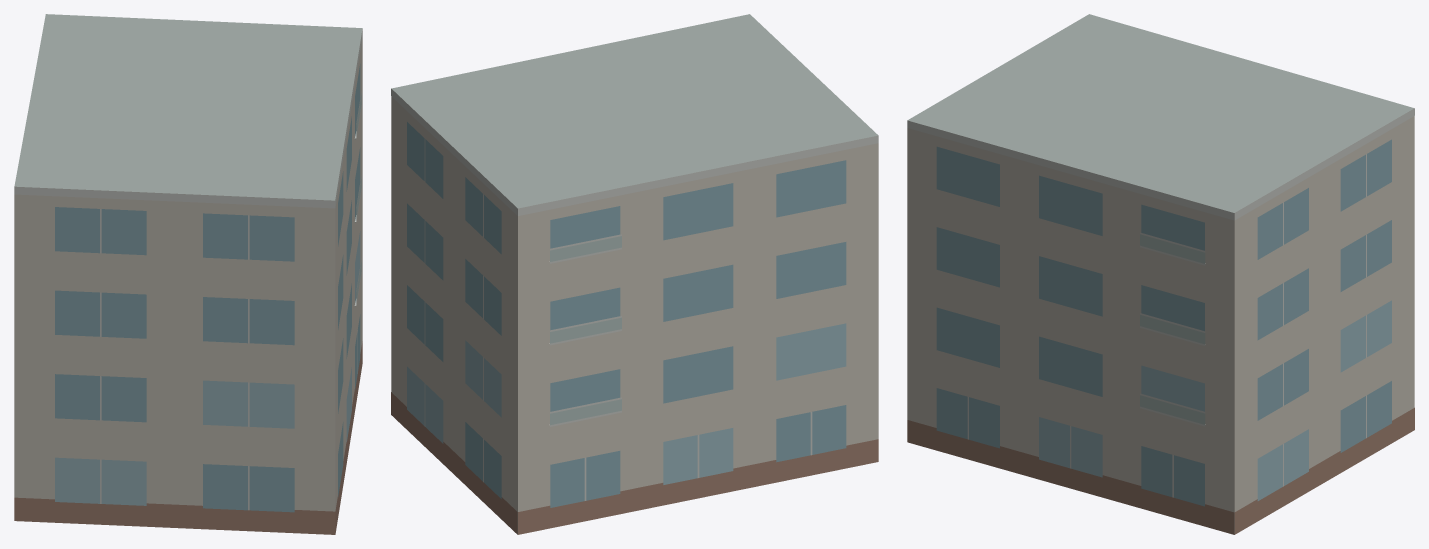
The model's file is survey-upis-32883993.glb.
The picture shows the model from 3 angles, left to right: view 1: azimuth 30°, elevation 25°; view 2: azimuth 150°, elevation 25°; view 3: azimuth 270°, elevation 25°; orthographic projection. The views are drawn at different scales.
Parts seen in each view (by area): view 1: survey-upis-32883993.tmp; view 2: survey-upis-32883993.tmp; view 3: survey-upis-32883993.tmp.
Part boxes in pixels (x1,y1,x2,y2): survey-upis-32883993.tmp: (14,14,362,534); survey-upis-32883993.tmp: (391,14,878,534); survey-upis-32883993.tmp: (907,14,1414,534).
Size of the model in its own units: 13.81 by 10.4 by 14.87.
